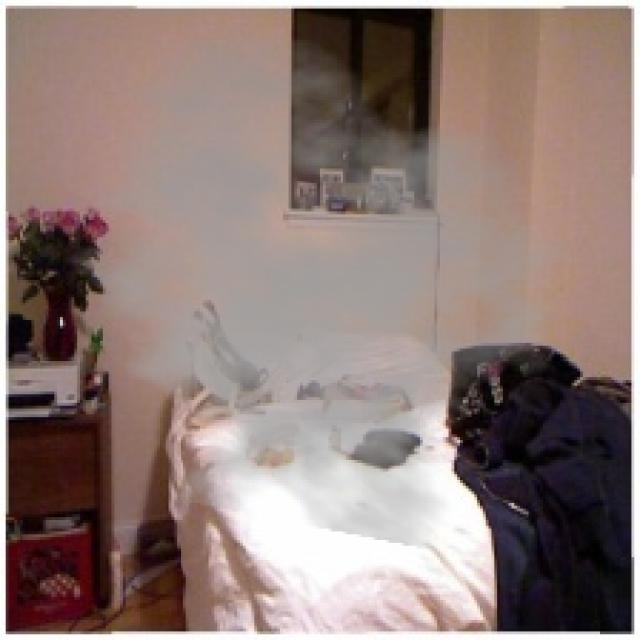smoke: (40, 29, 577, 552)
